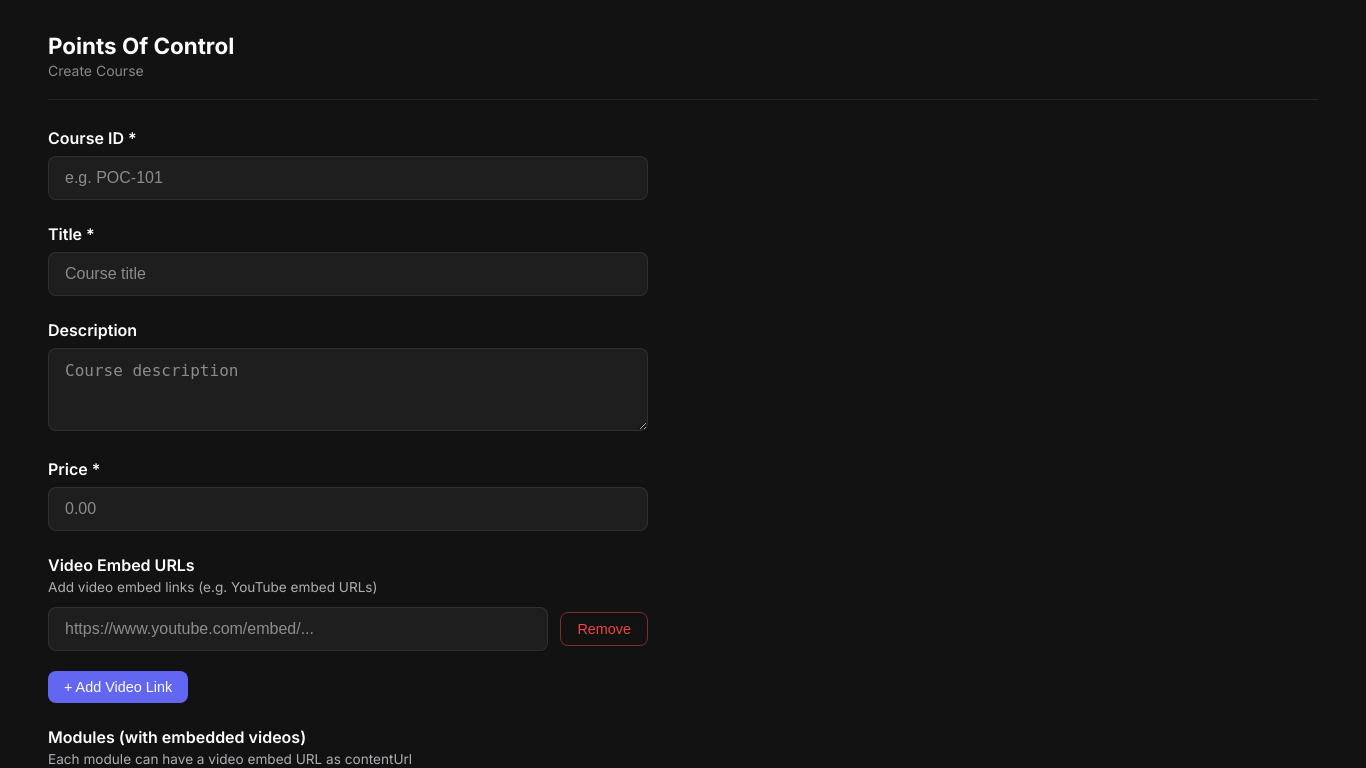
Test: CreateCourse component › adds a second video link field when Add Video Link is clicked
Step 1. Click the button "+ Add Video Link" → (118, 687), box 48,671 -> 188,703
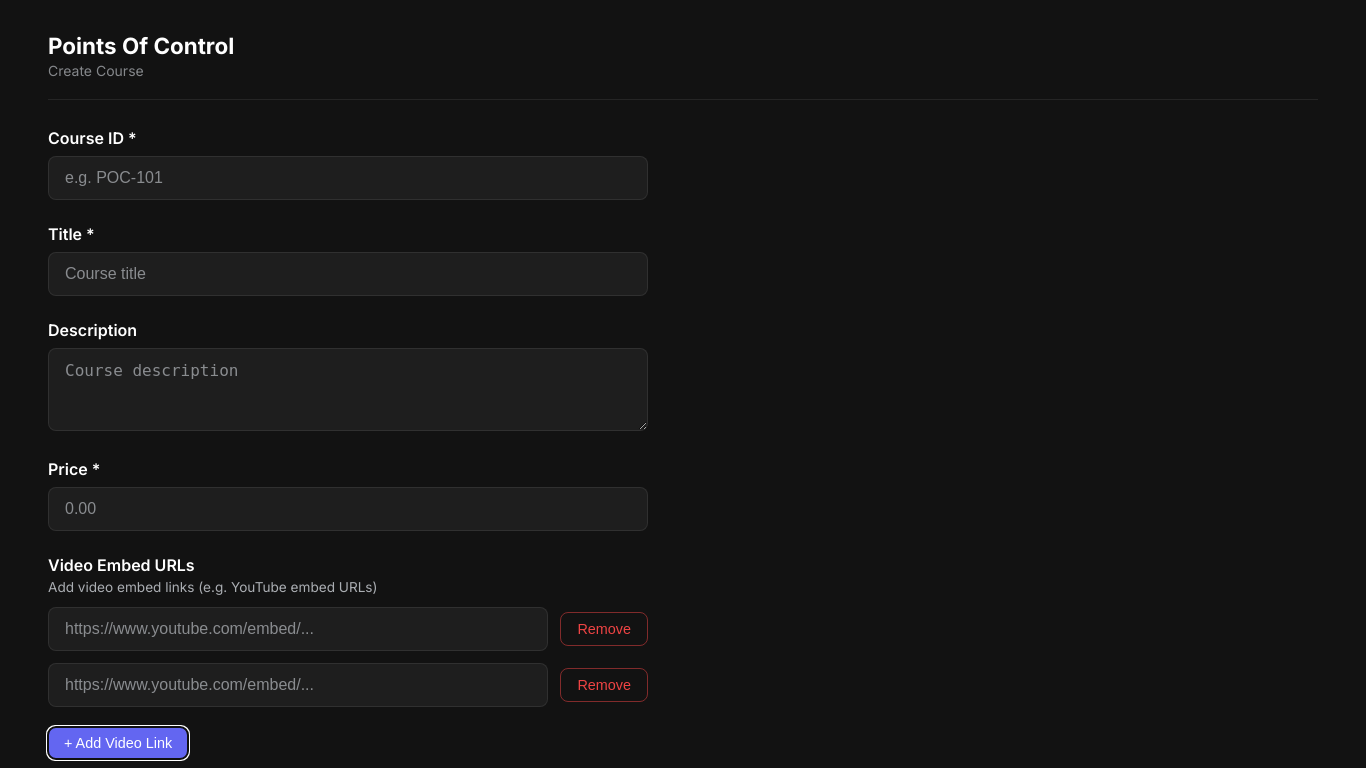
Expected: the number of fields with placeholder "https://www.youtube.com/embed/..." is 2, 48,607 -> 548,651; 48,663 -> 548,707
